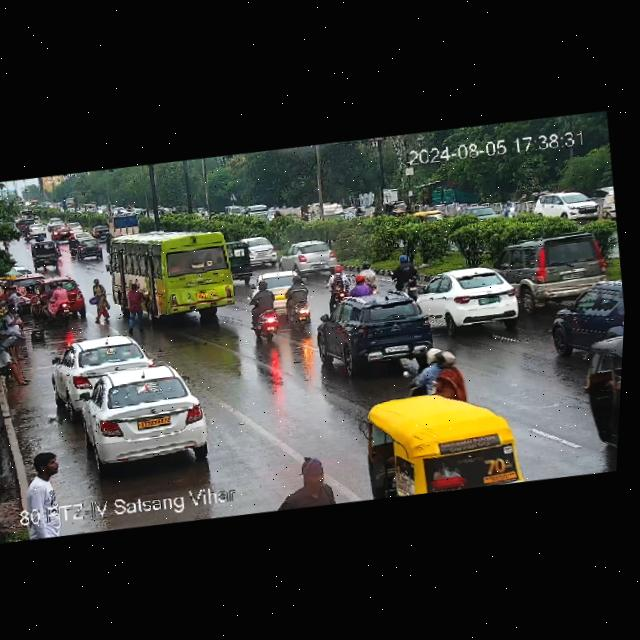bus: (346, 373, 535, 504), (94, 216, 243, 329)
car: (59, 356, 217, 476), (310, 284, 449, 374), (408, 259, 528, 332), (502, 228, 618, 303), (540, 280, 626, 369), (51, 332, 155, 400), (582, 342, 623, 468), (518, 185, 609, 226), (30, 271, 90, 320), (582, 333, 623, 402), (276, 238, 343, 276), (224, 200, 279, 226), (243, 234, 283, 267), (30, 238, 66, 271), (454, 204, 499, 229), (405, 206, 454, 227), (7, 262, 42, 286), (77, 238, 105, 262), (386, 199, 414, 220), (23, 222, 51, 238), (49, 227, 75, 243), (89, 224, 110, 241), (43, 216, 67, 228), (68, 219, 85, 234), (78, 231, 96, 241)
motorcycle: (321, 255, 392, 300), (405, 344, 466, 396), (248, 279, 285, 342), (282, 274, 318, 335), (38, 281, 75, 327), (387, 250, 415, 287), (498, 198, 517, 222), (65, 234, 80, 258), (22, 224, 32, 242), (355, 207, 365, 217), (274, 207, 283, 218), (36, 232, 45, 242)
person: (269, 460, 345, 513), (20, 449, 72, 516), (0, 332, 33, 387), (121, 281, 153, 328), (4, 306, 31, 357), (91, 276, 112, 319), (1, 283, 32, 310)
truck: (301, 198, 354, 228), (106, 212, 142, 237)
